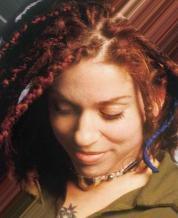face: (50, 95, 127, 164)
